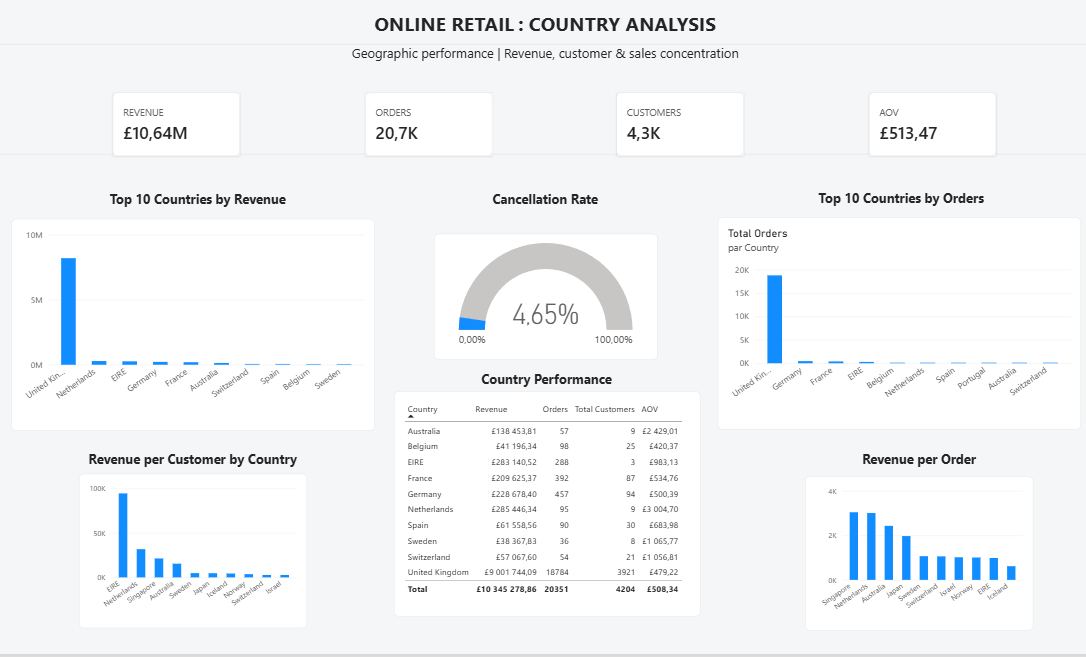

Layout of this report page (visuals, bound fields, positions):
{"tool":"powerbi","page":{"name":"COUNTRY","canvas":[1920,1080],"ordinal":3},"visuals":[{"type":"textbox","box":[0,16.8,1920.4,166.2],"z":0},{"type":"textbox","box":[0,71.5,1920.4,185.1],"z":1000},{"type":"cardVisual","title":"Revenue","fields":{"Data":["Table.Revenue Sales"]},"box":[245.3,152.3,210,105],"z":2000},{"type":"cardVisual","title":"Revenue","fields":{"Data":["Table.Average Order Value"]},"box":[1495.3,152.3,210,105],"z":3000},{"type":"cardVisual","title":"Revenue","fields":{"Data":["Table.Total Orders"]},"box":[662,152.3,210,105],"z":4000},{"type":"textbox","box":[0,313,1920.4,46.5],"z":5000},{"type":"clusteredColumnChart","fields":{"Category":["Table.Country"],"Y":["Table.Total Revenue"]},"box":[78.5,360.7,600,350],"z":6000},{"type":"textbox","box":[44.6,314.1,681.2,46.7],"z":7000},{"type":"textbox","box":[1232.1,312.3,630.9,46.7],"z":8000},{"type":"cardVisual","title":"Revenue","fields":{"Data":["Table.Total Customers"]},"box":[1078.7,152.5,210,105],"z":9000},{"type":"clusteredColumnChart","fields":{"Category":["Table.Country"],"Y":["Table.Total Orders"]},"box":[1246.1,360.1,600,350],"z":10000},{"type":"tableEx","fields":{"Values":["Table.Country","Table.Revenue Sales","Table.Total Orders","Table.Total Customers","Table.Average Order Value"]},"box":[710,646,506,372],"z":11000},{"type":"textbox","box":[680,612,566,34],"z":12000},{"type":"gauge","fields":{"Y":["Table.Cancellation Rate"]},"box":[775.4,386.6,369.2,208],"z":13000},{"type":"clusteredColumnChart","fields":{"Category":["Table.Country"],"Y":["Table.Revenue per Customer"]},"box":[190,783.3,376.7,255],"z":14000},{"type":"textbox","box":[190,744,376,40],"z":14001},{"type":"clusteredColumnChart","fields":{"Category":["Table.Country"],"Y":["Table.Revenue per Order"]},"box":[1390,786,376.7,255],"z":14002},{"type":"textbox","box":[1390,744,376,40],"z":14003}]}

Visuals, with their boxes on the page's 1920x1080 design canvas (x1, y1, x2, y2). These are canvas units, not pixel positions in the 1086x657 screenshot, which may show the page scaled, cropped or inside an application window:
textbox: <box>0,17,1920,183</box>
textbox: <box>0,72,1920,257</box>
"Revenue" cardVisual: <box>245,152,455,257</box>
"Revenue" cardVisual: <box>1495,152,1705,257</box>
"Revenue" cardVisual: <box>662,152,872,257</box>
textbox: <box>0,313,1920,360</box>
clusteredColumnChart - Table.Country x Table.Total Revenue: <box>78,361,678,711</box>
textbox: <box>45,314,726,361</box>
textbox: <box>1232,312,1863,359</box>
"Revenue" cardVisual: <box>1079,152,1289,258</box>
clusteredColumnChart - Table.Country x Table.Total Orders: <box>1246,360,1846,710</box>
tableEx - Table.Country x Table.Revenue Sales: <box>710,646,1216,1018</box>
textbox: <box>680,612,1246,646</box>
gauge - Table.Cancellation Rate: <box>775,387,1145,595</box>
clusteredColumnChart - Table.Country x Table.Revenue per Customer: <box>190,783,567,1038</box>
textbox: <box>190,744,566,784</box>
clusteredColumnChart - Table.Country x Table.Revenue per Order: <box>1390,786,1767,1041</box>
textbox: <box>1390,744,1766,784</box>
